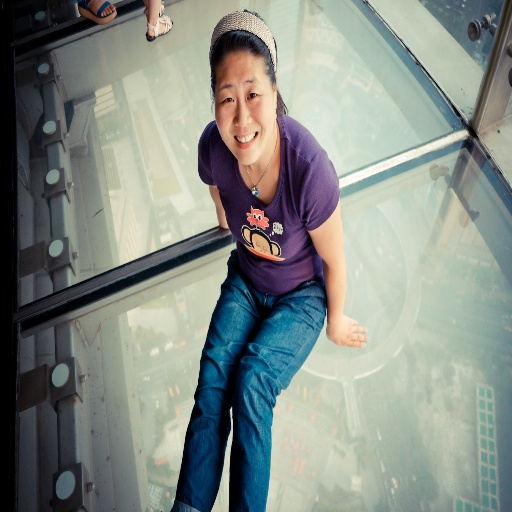hand: (335, 312, 374, 362)
